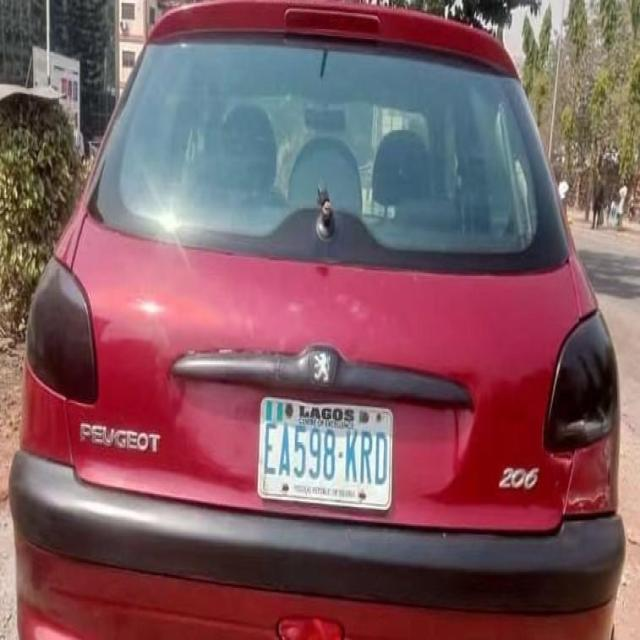Nigerian License Plate - vdataset benjamin-daria: (253, 391, 394, 513)
